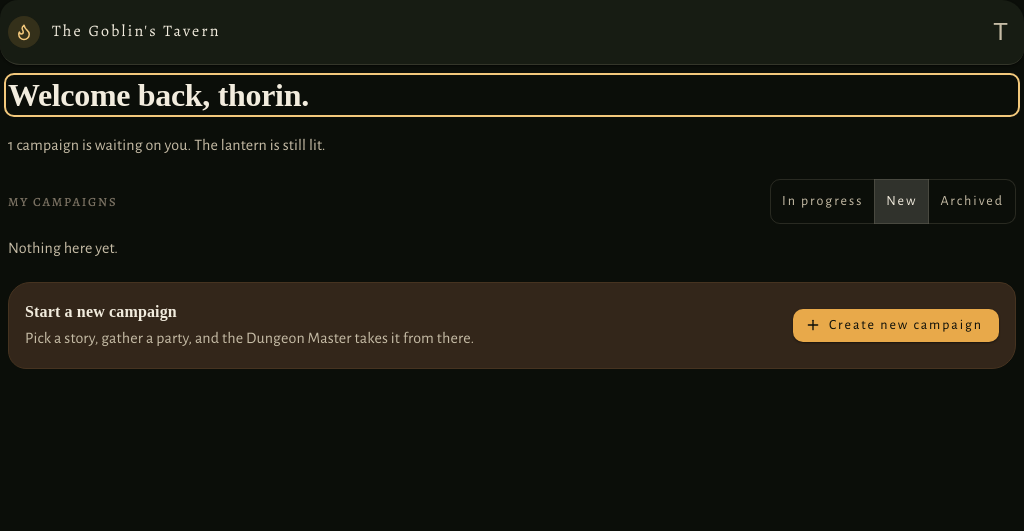
Test case: DashboardRoute on / (AC1-AC5) › AC4: an unavailable run renders muted with no open action; activating it explains why and navigates nowhere
Click the button "Archived" at (972,202), box [928,179,1016,224]
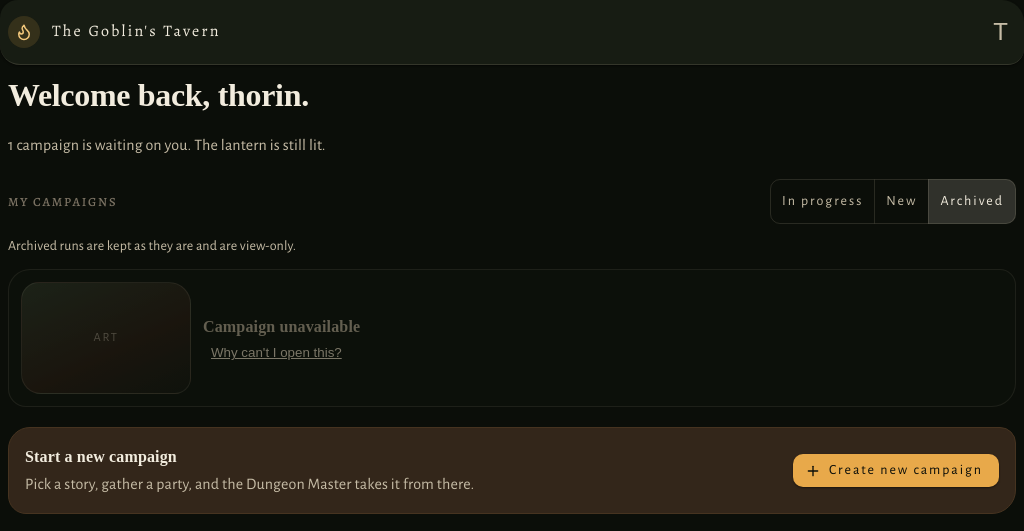
expect the text "no longer available" is not shown: met
expect the text "Campaign unavailable" is shown: met, box [203,318,360,335]
Click the button "Why can't I open this?" at (276,353), box [203,343,350,362]
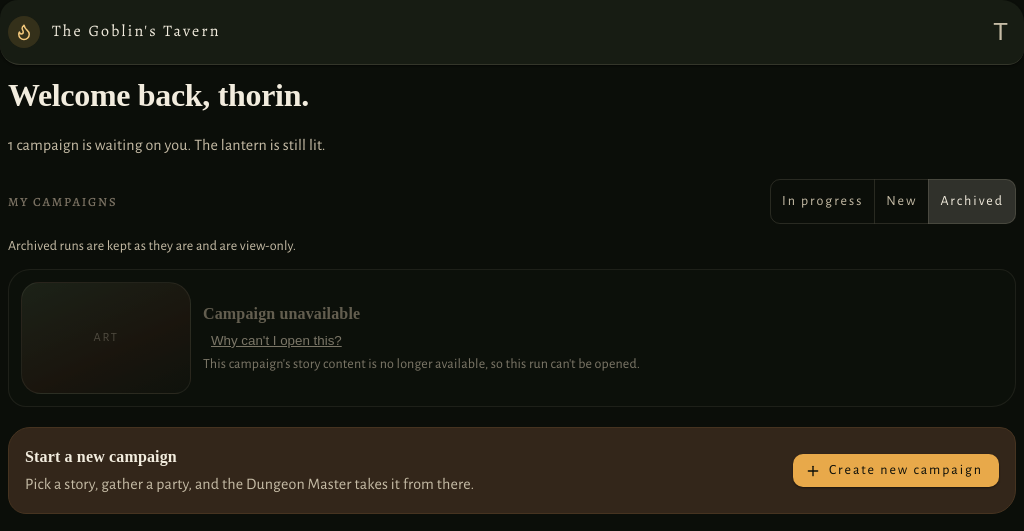
expect the text "no longer available" is shown: met, box [203,357,640,371]
